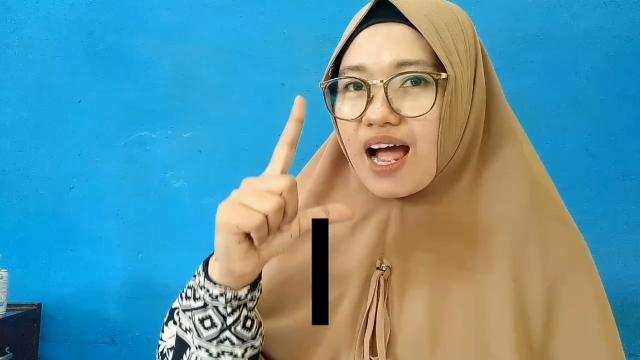L: (206, 95, 362, 272)
